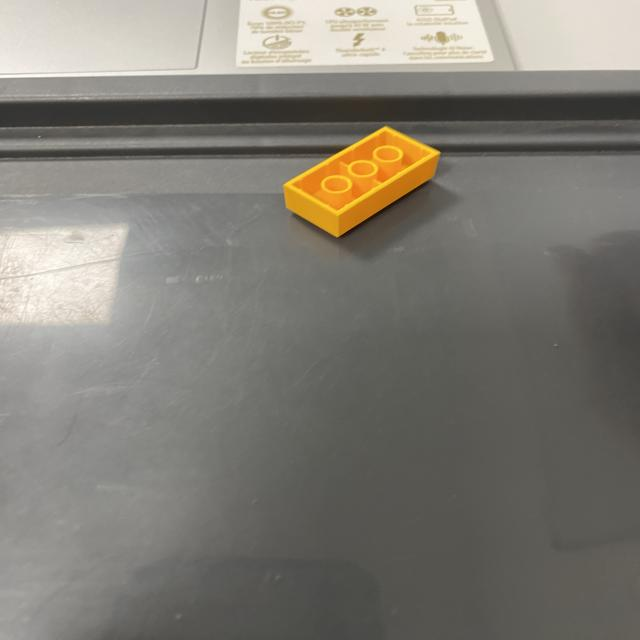C4x2x1: (341, 156, 438, 234), (286, 126, 387, 181), (281, 181, 341, 235)
